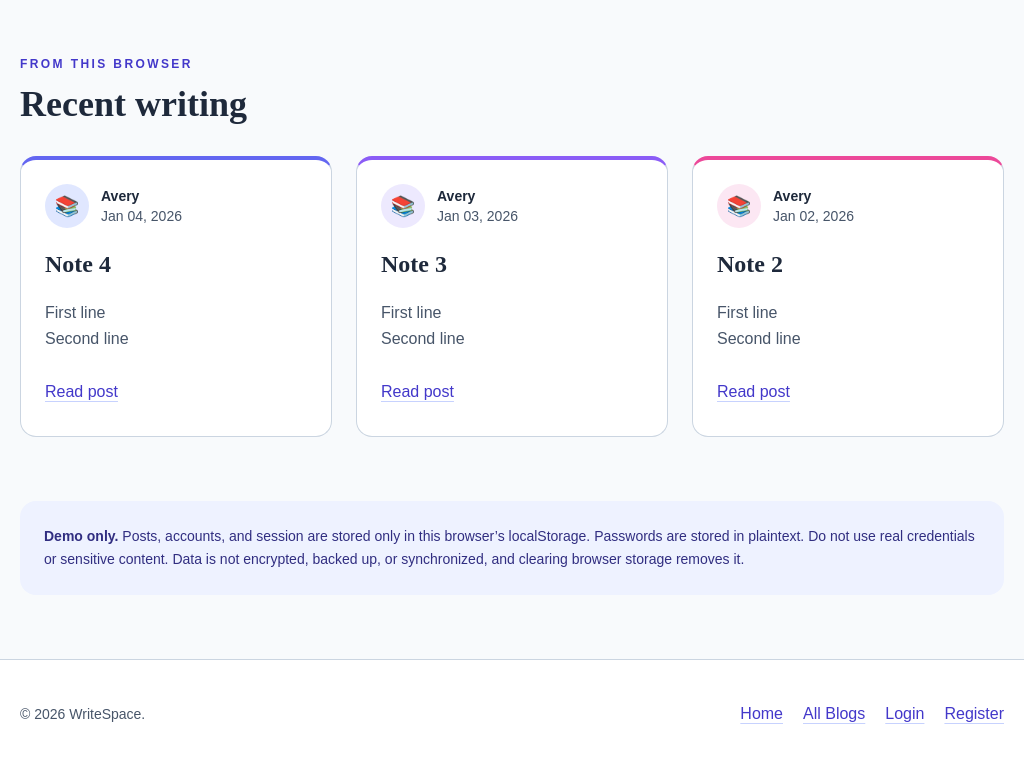
shows only three newest local previews with metadata and guest gate
(page scrolled)
expect the headings read "Note 4", "Note 3", "Note 2", in this order: met, box [45,251,111,277]; [381,251,447,277]; [717,251,783,277]
expect the text "Jan 04, 2026" is shown: met, box [101,208,182,224]
Click the link with aria-label "Read post: Note 4" at (85, 391), box [45,382,126,400]
(page scrolled)
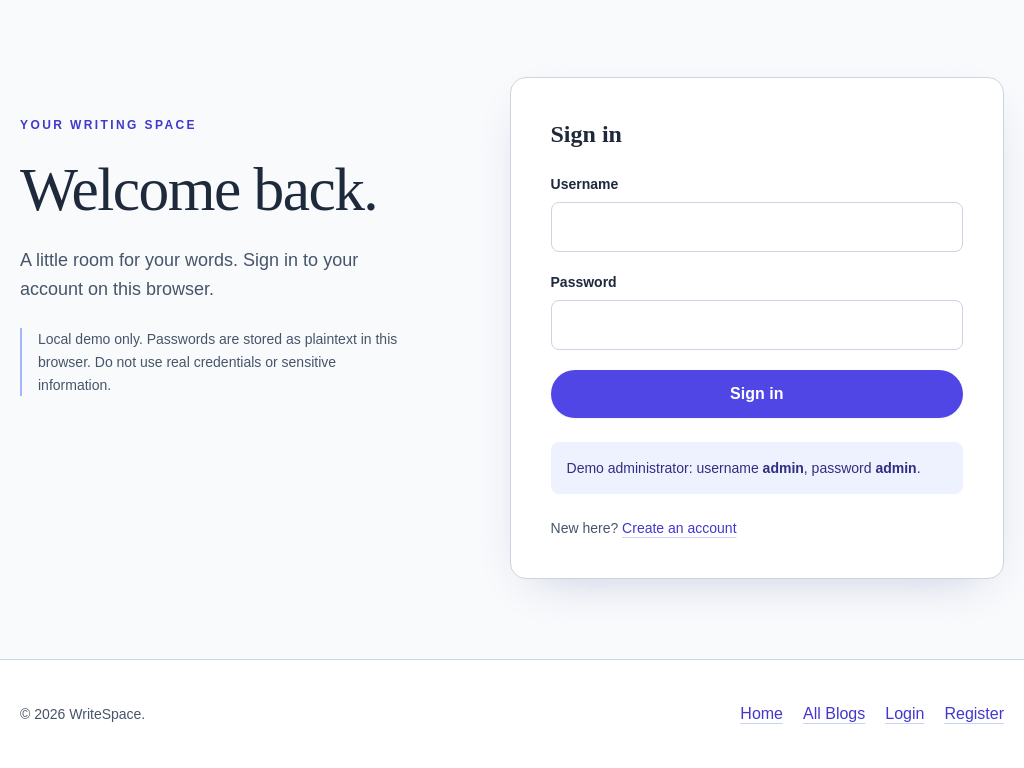
expect the heading "Sign in" is shown: met, box [550,121,622,147]
